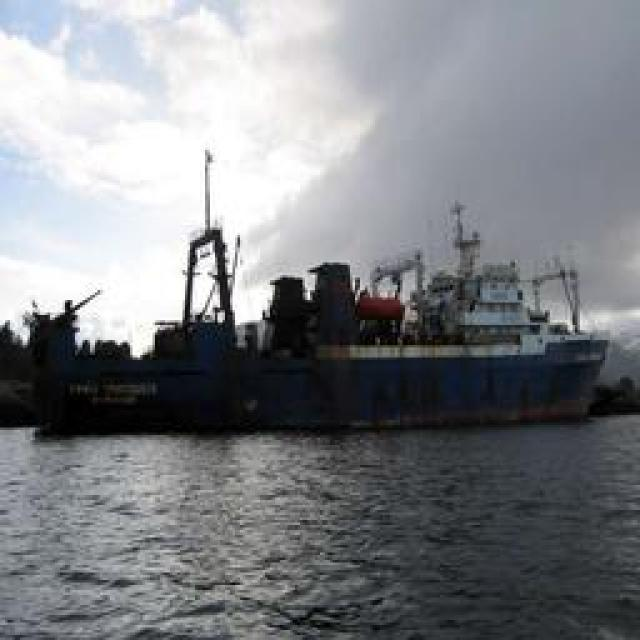ship2: (28, 152, 609, 439)
